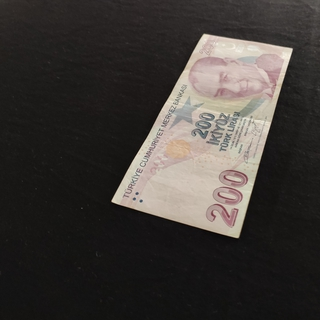200TLFront: (111, 33, 293, 238)
